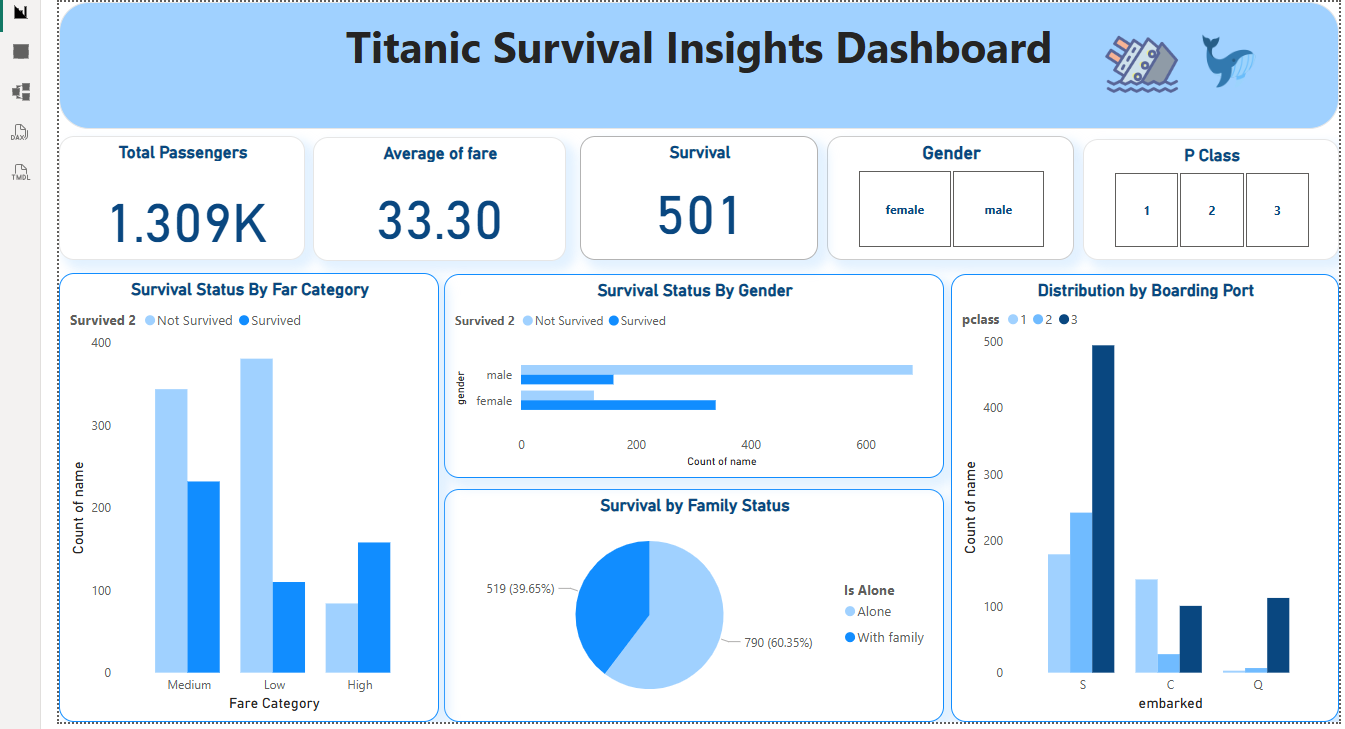

This screenshot's page, from the dashboard's own definition file:
{"tool":"powerbi","page":{"name":"Page 1","canvas":[1280,720],"ordinal":0},"visuals":[{"type":"slicer","title":"Gender","fields":{"Values":["titanic3.gender"]},"box":[768.4,134.2,247.1,123.5],"z":0},{"type":"slicer","title":"P Class","fields":{"Values":["titanic3.pclass"]},"box":[1024.2,137.1,255.8,120.6],"z":1000},{"type":"cardVisual","title":"Total Passengers","fields":{"Data":["CountNonNull(titanic3.name)"]},"box":[0,134.2,246.1,123.5],"z":2000},{"type":"cardVisual","title":"Average of fare","fields":{"Data":["Avg(titanic3.fare)"]},"box":[253.9,135.2,252.9,123.5],"z":3000},{"type":"pieChart","title":"Survival by Family Status","fields":{"Category":["titanic3.Is Alone"],"Y":["CountNonNull(titanic3.name)"]},"box":[385.2,487.3,499.9,232.5],"z":4000},{"type":"clusteredBarChart","title":"Survival Status By Gender","fields":{"Y":["CountNonNull(titanic3.name)"],"Category":["titanic3.gender"],"Series":["titanic3.Survived 2"]},"box":[385.2,272.3,499.9,203.3],"z":5000},{"type":"clusteredColumnChart","title":"Survival Status By Far Category","fields":{"Category":["titanic3.Fare Category"],"Series":["titanic3.Survived 2"],"Y":["CountNonNull(titanic3.name)"]},"box":[0,271.4,380.3,448.4],"z":6000},{"type":"textbox","box":[0,0,1280,127.4],"z":7000},{"type":"card","title":"Survival","fields":{"Values":["CountNonNull(titanic3.Survived 2)"]},"box":[521.3,134.2,237.3,123.5],"z":8000},{"type":"image","box":[1035.9,0,102.1,101.2],"z":9000},{"type":"image","box":[1138,0,64.2,116.7],"z":10000},{"type":"clusteredColumnChart","title":"Distribution by Boarding Port","fields":{"Category":["titanic3.embarked"],"Series":["titanic3.pclass"],"Y":["CountNonNull(titanic3.name)"]},"box":[891.9,272.3,388.1,447.4],"z":11000}]}

Visuals, with their boxes in screenshot pixels (x1, y1, x2, y2):
"Gender" slicer: box=[823, 134, 1069, 257]
"P Class" slicer: box=[1078, 137, 1333, 257]
"Total Passengers" cardVisual: box=[56, 134, 302, 257]
"Average of fare" cardVisual: box=[309, 135, 562, 258]
"Survival by Family Status" pieChart: box=[440, 486, 939, 718]
"Survival Status By Gender" clusteredBarChart: box=[440, 272, 939, 475]
"Survival Status By Far Category" clusteredColumnChart: box=[56, 271, 436, 718]
textbox: box=[56, 0, 1333, 127]
"Survival" card: box=[576, 134, 813, 257]
image: box=[1090, 0, 1192, 101]
image: box=[1192, 0, 1256, 116]
"Distribution by Boarding Port" clusteredColumnChart: box=[946, 272, 1333, 718]
